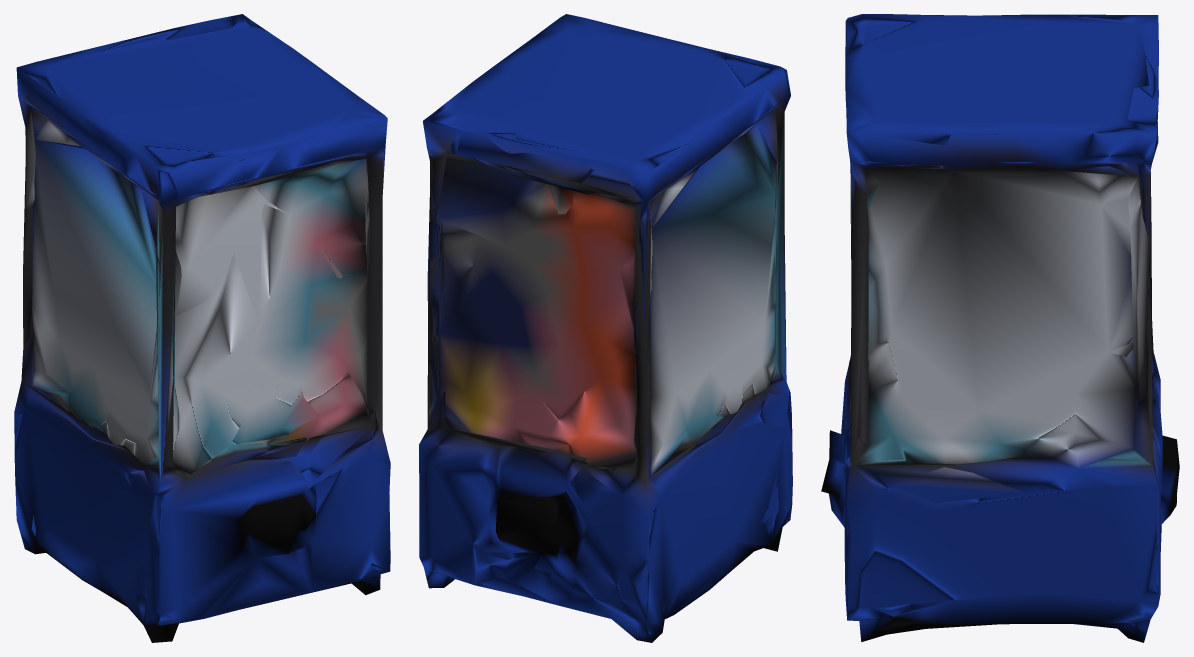
The model's file is gen3d-claw-machine-lod0.glb.
3 renders of one model, left to right at view 1: azimuth 30°, elevation 25°; view 2: azimuth 150°, elevation 25°; view 3: azimuth 270°, elevation 25°, orthographic. The views are drawn at different scales.
Parts seen in each view (by area): view 1: part_0; view 2: part_0; view 3: part_0.
Boxes of the visible parts, box(x1,y1,x2,y2) form: part_0: box(14, 14, 390, 642); part_0: box(419, 14, 792, 642); part_0: box(821, 14, 1179, 642).
Size of the model in its own units: 0.5068 by 0.9976 by 0.6307.
